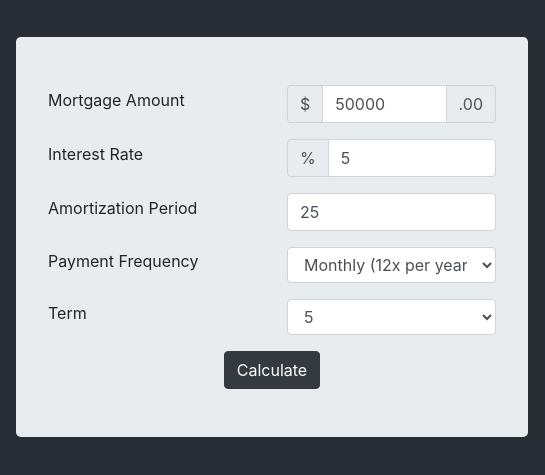
Test: Mortgage › Mortgage amount error should be rendered
Replace the text in the number field with test id "mortgage-amt" with "999999999" at (384, 104), box [322,85,447,123]
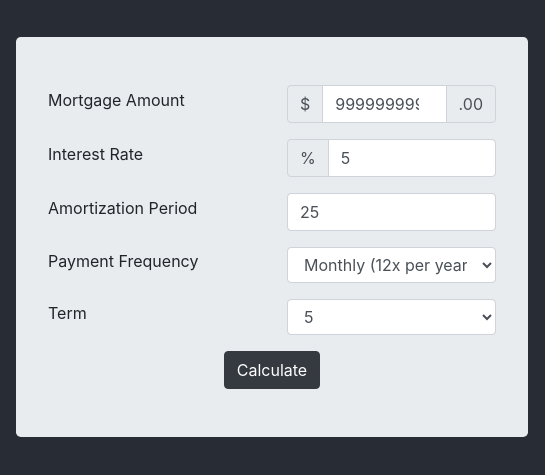
Click the button with test id "calculate-btn" at (272, 370), box [224,351,320,389]
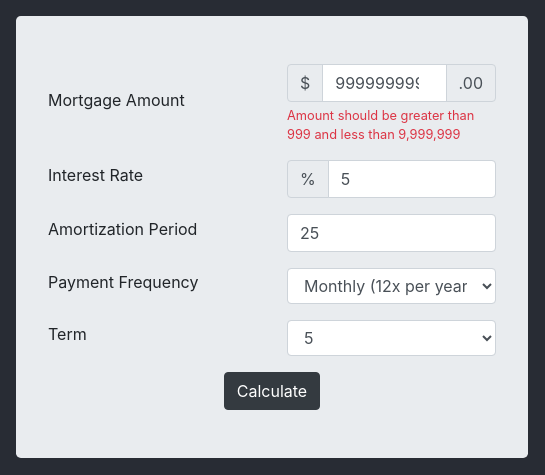
expect the text "Amount should be greater than 999 and less than 9,999,999" is shown: met, box [287,106,496,144]
